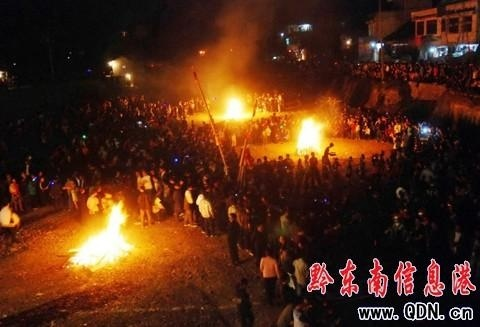fire: (70, 196, 130, 265), (297, 118, 324, 150), (221, 94, 248, 119)
